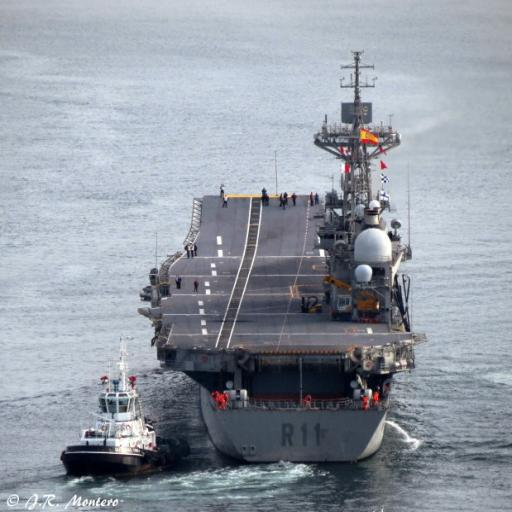Portanaves: (140, 40, 423, 474)
